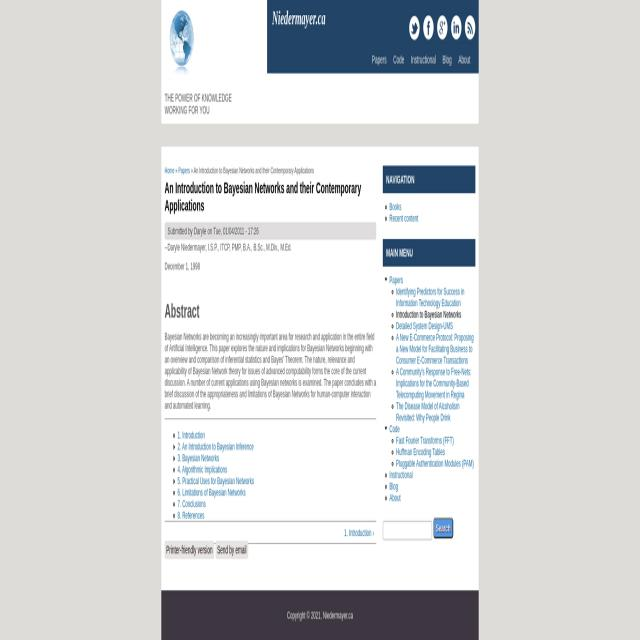button: (165, 8, 198, 82), (165, 541, 214, 559), (407, 46, 439, 73), (216, 541, 248, 559), (368, 46, 389, 73), (455, 46, 474, 73), (390, 46, 408, 73), (439, 46, 455, 73), (433, 518, 453, 538), (409, 15, 420, 40), (423, 15, 434, 40), (437, 15, 447, 40), (451, 15, 461, 40), (465, 15, 475, 40)
field: (383, 521, 432, 540)
